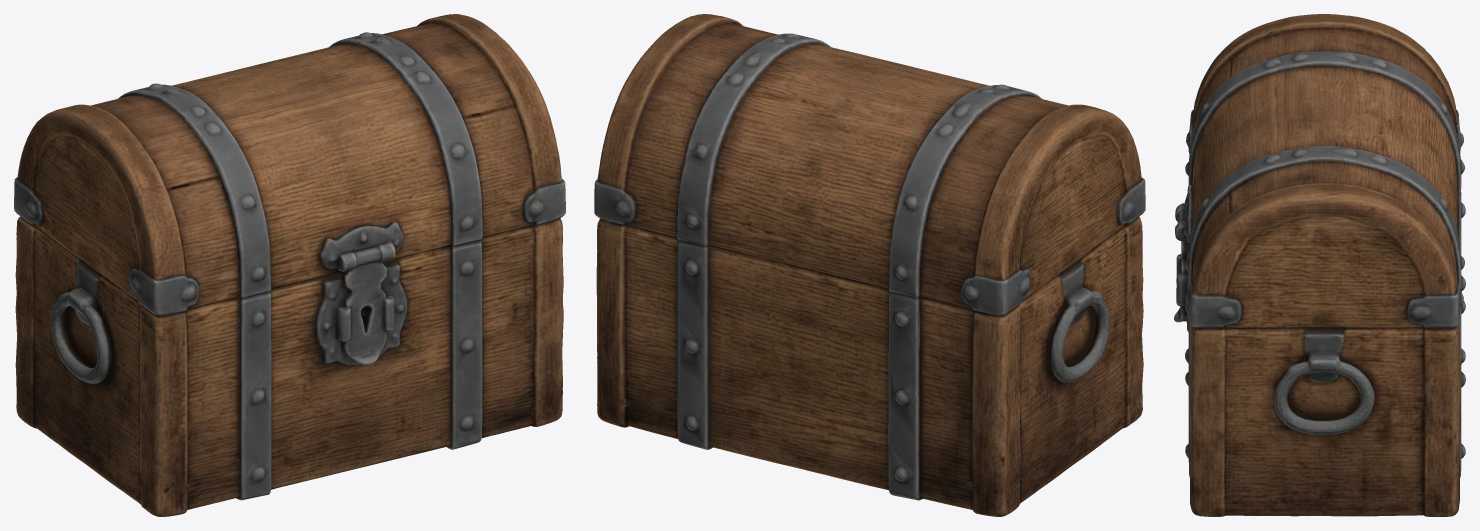
File: whole.glb
The picture shows the model from 3 angles, left to right: view 1: azimuth 30°, elevation 25°; view 2: azimuth 150°, elevation 25°; view 3: azimuth 270°, elevation 25°; orthographic projection. The views are drawn at different scales.
Visible parts, largest first — view 1: geometry_0; view 2: geometry_0; view 3: geometry_0.
Part boxes in pixels (bbox=[...]): geometry_0: bbox=[14, 14, 565, 516]; geometry_0: bbox=[594, 14, 1145, 516]; geometry_0: bbox=[1174, 14, 1465, 516].
Size of the model in its own units: 0.5999 by 0.4632 by 0.3729.
Materials: 1 (1 with a texture image).
